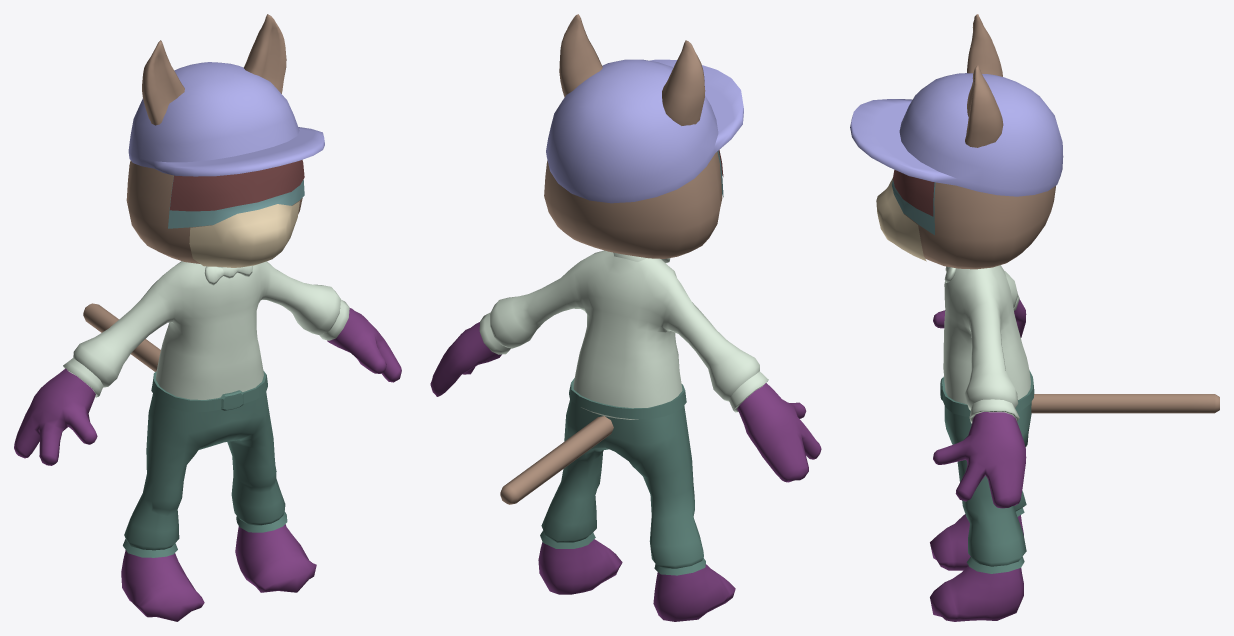
Rendered from CHARA_NOA_MODEL.fbx.
3 views of the same model, side by side, from view 1: azimuth 30°, elevation 25°; view 2: azimuth 150°, elevation 25°; view 3: azimuth 270°, elevation 25° (orthographic). The views are drawn at different scales.
Parts seen in each view (by area): view 1: CHARA_NOA_TOP_MODEL, CHARA_NOA_BOTTOM_MODEL, CHARA_NOA_MEDIUMBODY_MODEL, CHARA_NOA_EXTRAS_MODEL, CHARA_NOA_HEAD_MODEL, CHARA_NOA_MOUTH_MODEL, CHARA_NOA_EYEBROWS_MODEL, CHARA_NOA_EYES_MODEL; view 2: CHARA_NOA_TOP_MODEL, CHARA_NOA_EXTRAS_MODEL, CHARA_NOA_HEAD_MODEL, CHARA_NOA_BOTTOM_MODEL, CHARA_NOA_MEDIUMBODY_MODEL; view 3: CHARA_NOA_EXTRAS_MODEL, CHARA_NOA_HEAD_MODEL, CHARA_NOA_MEDIUMBODY_MODEL, CHARA_NOA_TOP_MODEL, CHARA_NOA_BOTTOM_MODEL, CHARA_NOA_MOUTH_MODEL, CHARA_NOA_EYEBROWS_MODEL, CHARA_NOA_EYES_MODEL.
Boxes of the visible parts, bbox=[...] form: CHARA_NOA_TOP_MODEL: bbox=[63, 261, 349, 399]; CHARA_NOA_BOTTOM_MODEL: bbox=[123, 370, 287, 557]; CHARA_NOA_MEDIUMBODY_MODEL: bbox=[14, 308, 401, 621]; CHARA_NOA_EXTRAS_MODEL: bbox=[128, 62, 324, 176]; CHARA_NOA_HEAD_MODEL: bbox=[83, 14, 302, 371]; CHARA_NOA_MOUTH_MODEL: bbox=[189, 201, 299, 267]; CHARA_NOA_EYEBROWS_MODEL: bbox=[170, 160, 304, 211]; CHARA_NOA_EYES_MODEL: bbox=[168, 176, 304, 228]; CHARA_NOA_TOP_MODEL: bbox=[479, 250, 768, 419]; CHARA_NOA_EXTRAS_MODEL: bbox=[546, 59, 743, 203]; CHARA_NOA_HEAD_MODEL: bbox=[500, 14, 722, 504]; CHARA_NOA_BOTTOM_MODEL: bbox=[540, 378, 705, 575]; CHARA_NOA_MEDIUMBODY_MODEL: bbox=[430, 322, 821, 621]; CHARA_NOA_EXTRAS_MODEL: bbox=[850, 73, 1063, 196]; CHARA_NOA_HEAD_MODEL: bbox=[904, 14, 1219, 413]; CHARA_NOA_MEDIUMBODY_MODEL: bbox=[930, 299, 1026, 621]; CHARA_NOA_TOP_MODEL: bbox=[943, 265, 1030, 423]; CHARA_NOA_BOTTOM_MODEL: bbox=[940, 370, 1034, 573]; CHARA_NOA_MOUTH_MODEL: bbox=[876, 178, 926, 261]; CHARA_NOA_EYEBROWS_MODEL: bbox=[893, 169, 934, 216]; CHARA_NOA_EYES_MODEL: bbox=[892, 179, 935, 235].
Bounding box in the file's own units: 112 × 163 × 99.47.
